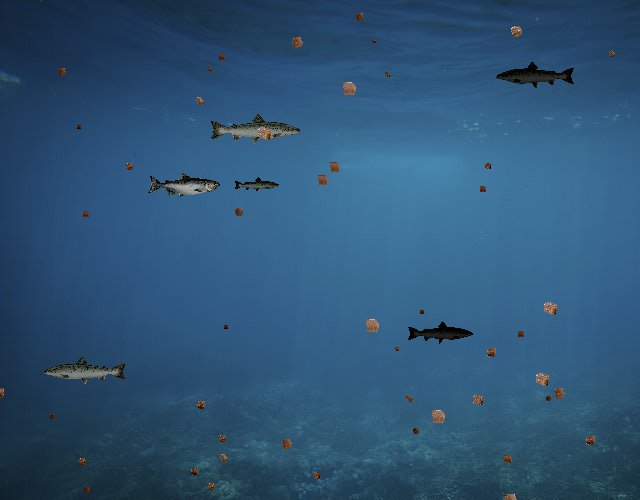Fish: (209, 113, 303, 146), (42, 355, 128, 386), (496, 61, 577, 90), (148, 173, 221, 199), (406, 320, 474, 345), (233, 176, 280, 193)
Pellet: (504, 19, 529, 44), (351, 8, 368, 26), (74, 454, 90, 470), (480, 159, 494, 173), (542, 392, 555, 405), (204, 64, 214, 74)
